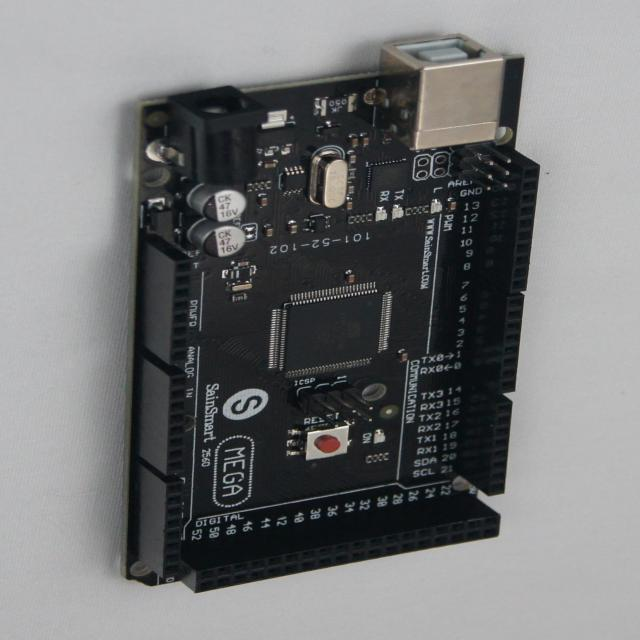Arduino Mega 2560 -Black-: (125, 36, 539, 593)
